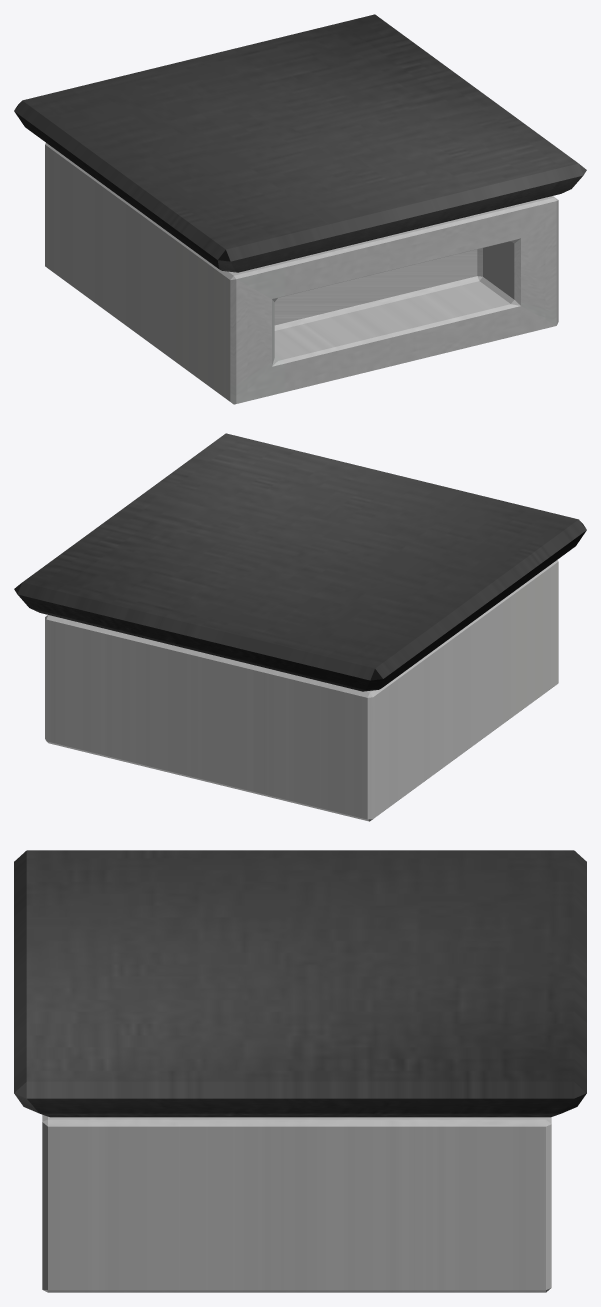
Rendered from weigher.fbx.
3 renders of one model, top to bottom at view 1: azimuth 30°, elevation 25°; view 2: azimuth 150°, elevation 25°; view 3: azimuth 270°, elevation 25°, orthographic. The views are drawn at different scales.
Visible parts, largest first — view 1: WeigherTop, Весы; view 2: WeigherTop, Весы; view 3: WeigherTop, Весы.
Boxes of the visible parts, left/top/right/bottom form: WeigherTop: left=14, top=14, right=586, bottom=272; Весы: left=45, top=143, right=558, bottom=404; WeigherTop: left=14, top=433, right=586, bottom=691; Весы: left=45, top=560, right=558, bottom=821; WeigherTop: left=14, top=850, right=586, bottom=1117; Весы: left=42, top=1114, right=551, bottom=1292.
Size of the model in its own units: 4.5 by 1.92 by 4.5.
2 materials, 2 textured.
